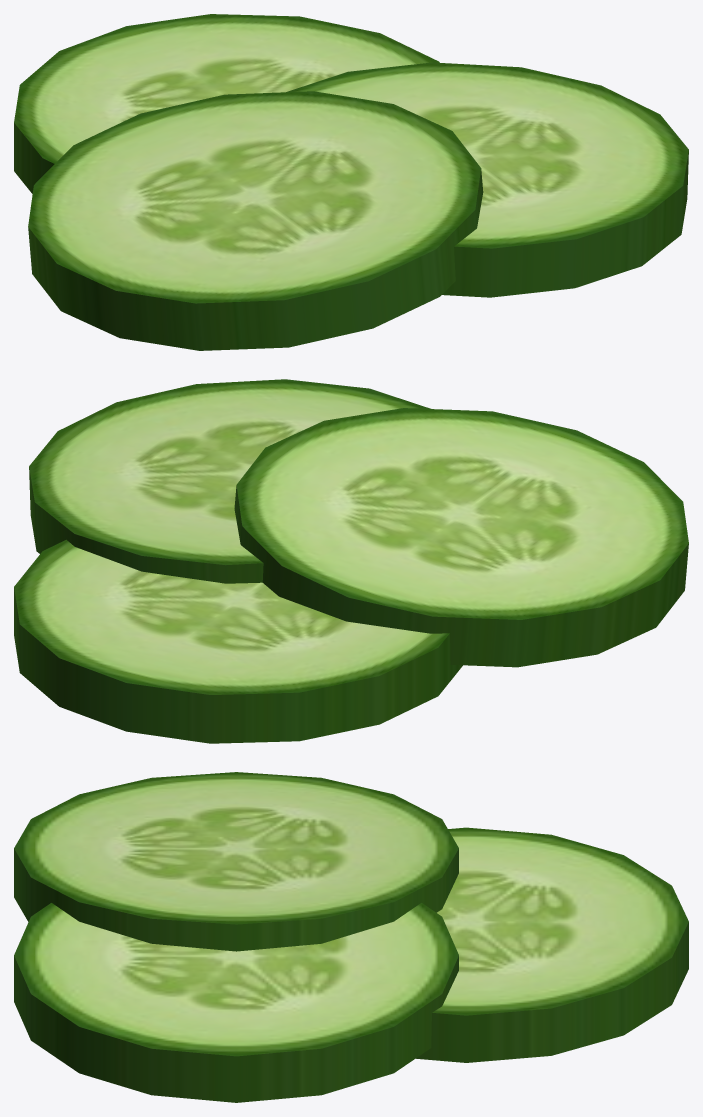
File: CucumberSlice.glb
3 renders of one model, top to bottom at view 1: azimuth 30°, elevation 25°; view 2: azimuth 150°, elevation 25°; view 3: azimuth 270°, elevation 25°, orthographic. The views are drawn at different scales.
Parts seen in each view (by area): view 1: CucumberSlice; view 2: CucumberSlice; view 3: CucumberSlice.
Part boxes in pixels (<box>): CucumberSlice: <box>14,14,688,350</box>; CucumberSlice: <box>14,379,688,743</box>; CucumberSlice: <box>14,772,688,1102</box>.
Size of the model in its own units: 0.4509 by 0.0652 by 0.4491.
1 material, 1 textured.
